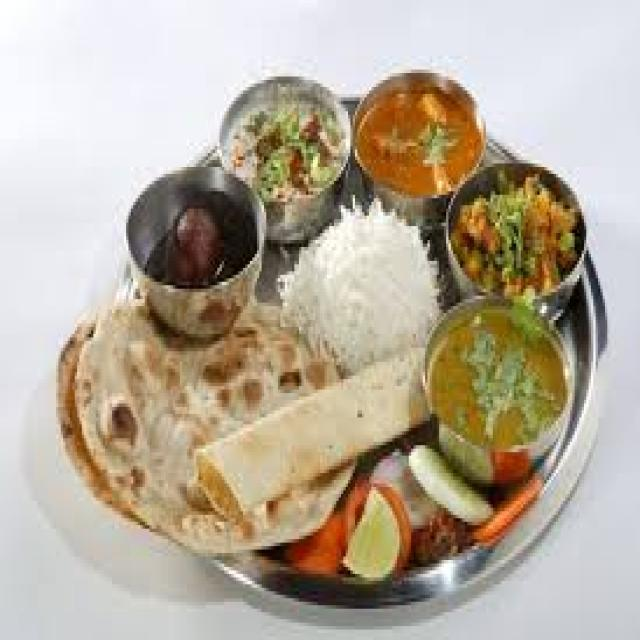dal: (423, 301, 579, 478)
papad: (281, 185, 432, 446)
rice: (285, 198, 431, 421)
sambar-rasam: (348, 65, 486, 216)
sweet: (135, 169, 258, 299)
veg-fry: (347, 74, 490, 217)
